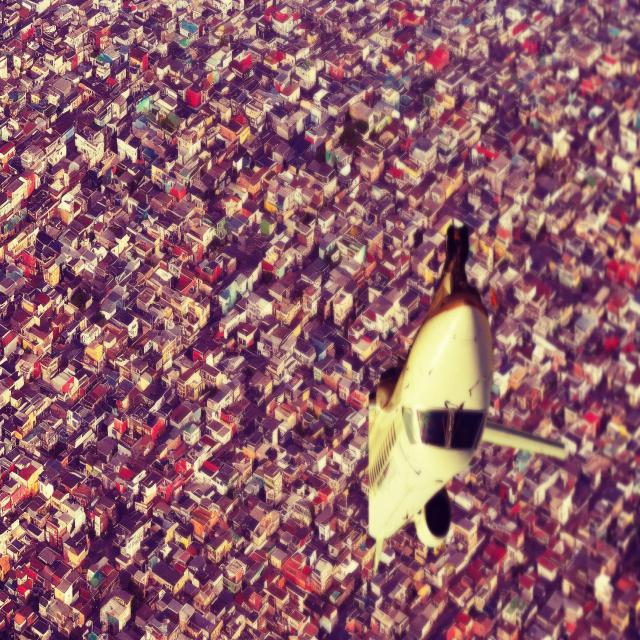airplane: (363, 219, 574, 575)
